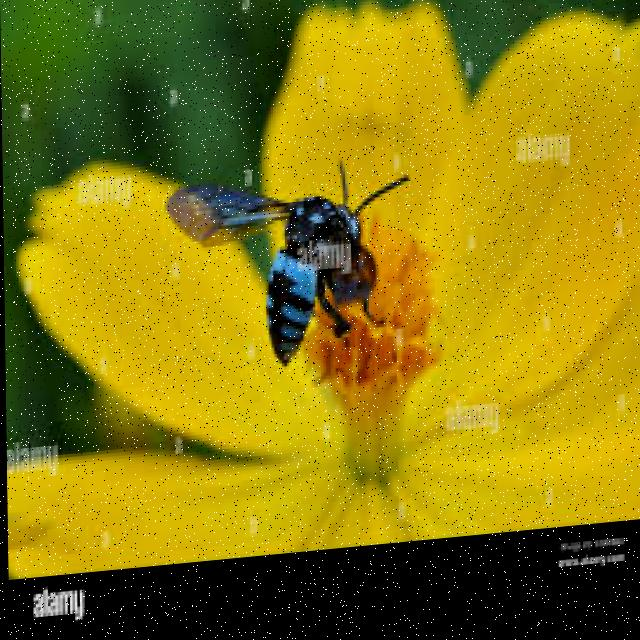Thyreus: (166, 150, 405, 394)
